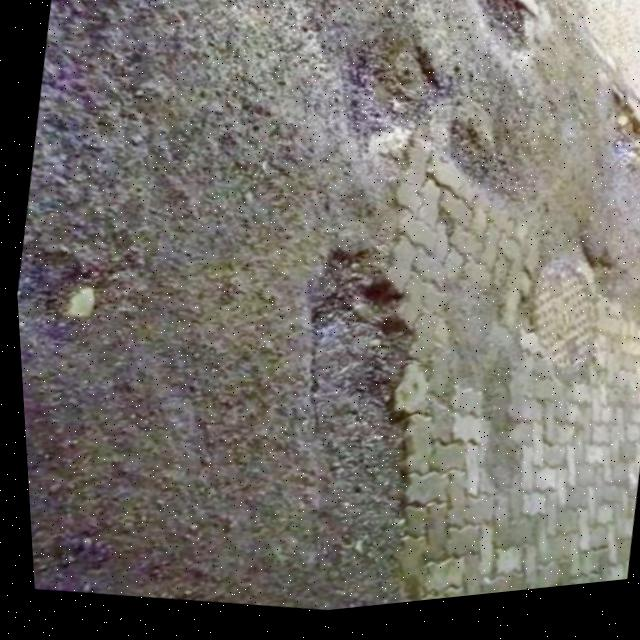Pothole: (239, 222, 460, 480), (330, 23, 456, 150), (582, 100, 640, 196), (436, 118, 505, 195), (462, 0, 539, 57), (564, 242, 627, 307)
